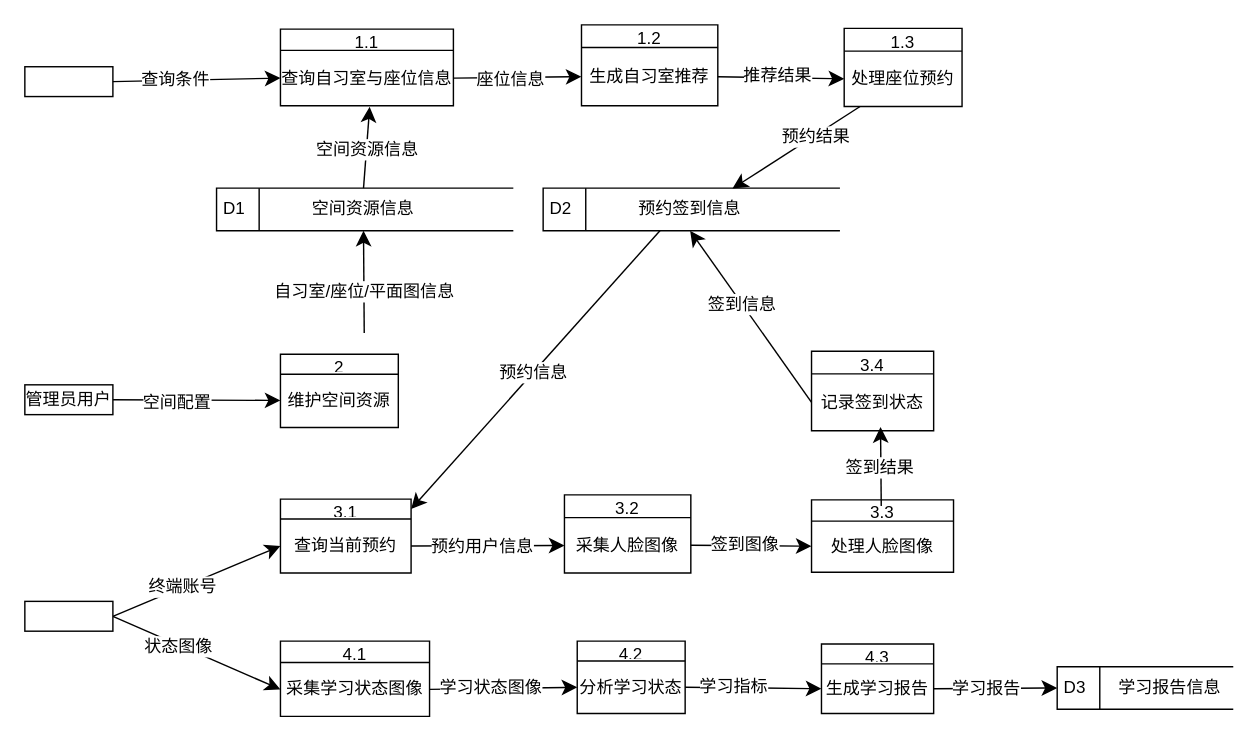
The diagram is 1258 pixels wide and 741 high, and some of its shapes have lost their labels. The shapes that lost their labels are listed below. From the top down, each one's centre as x and y in pixels, then its label:
At pixel 68 81: "学生用户".
At pixel 68 615: "座位终端".
